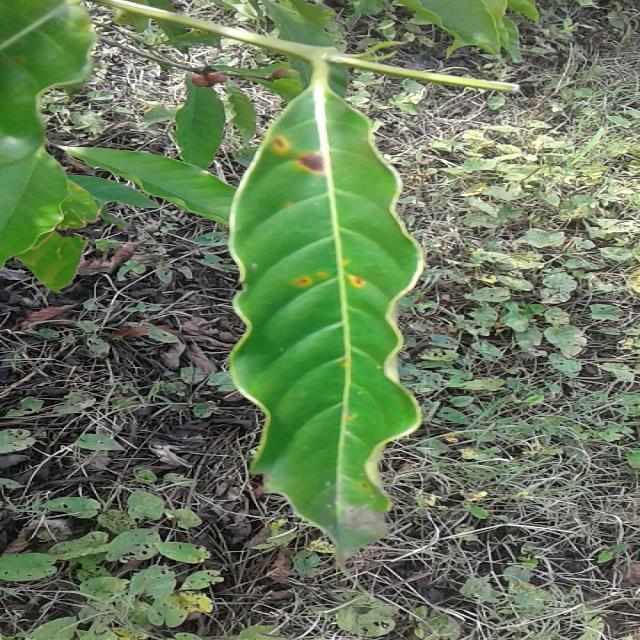Enfermedad-Roya: (228, 64, 423, 560)
